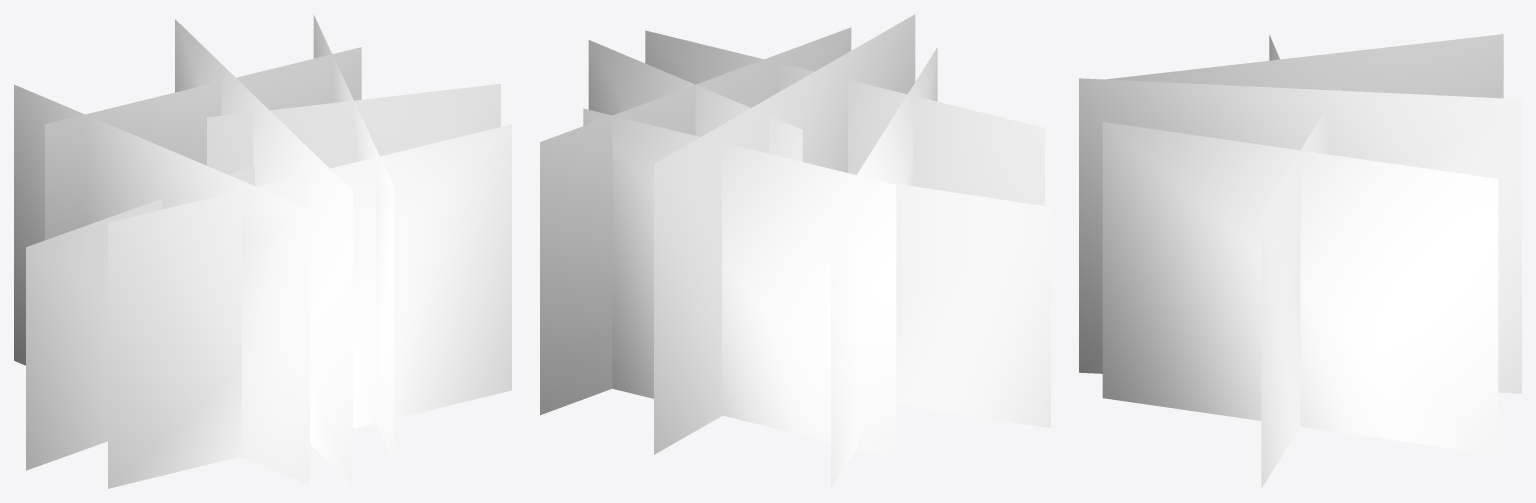
Rendered from SM_Env_Grass_Tall_Clump_02.glb.
3 renders of one model, left to right at view 1: azimuth 30°, elevation 25°; view 2: azimuth 150°, elevation 25°; view 3: azimuth 270°, elevation 25°, orthographic.
Visible parts, largest first — view 1: SM_Env_Grass_Tall_Clump_02_LOD0; view 2: SM_Env_Grass_Tall_Clump_02_LOD0; view 3: SM_Env_Grass_Tall_Clump_02_LOD0.
Part boxes in pixels (left/top/right/bottom): SM_Env_Grass_Tall_Clump_02_LOD0: left=14, top=15, right=511, bottom=488; SM_Env_Grass_Tall_Clump_02_LOD0: left=540, top=14, right=1050, bottom=488; SM_Env_Grass_Tall_Clump_02_LOD0: left=1079, top=34, right=1521, bottom=488.
Size of what is drawn, in the model's own units: 1.79 by 1.07 by 1.45.
Materials: 1 (1 with a texture image).
